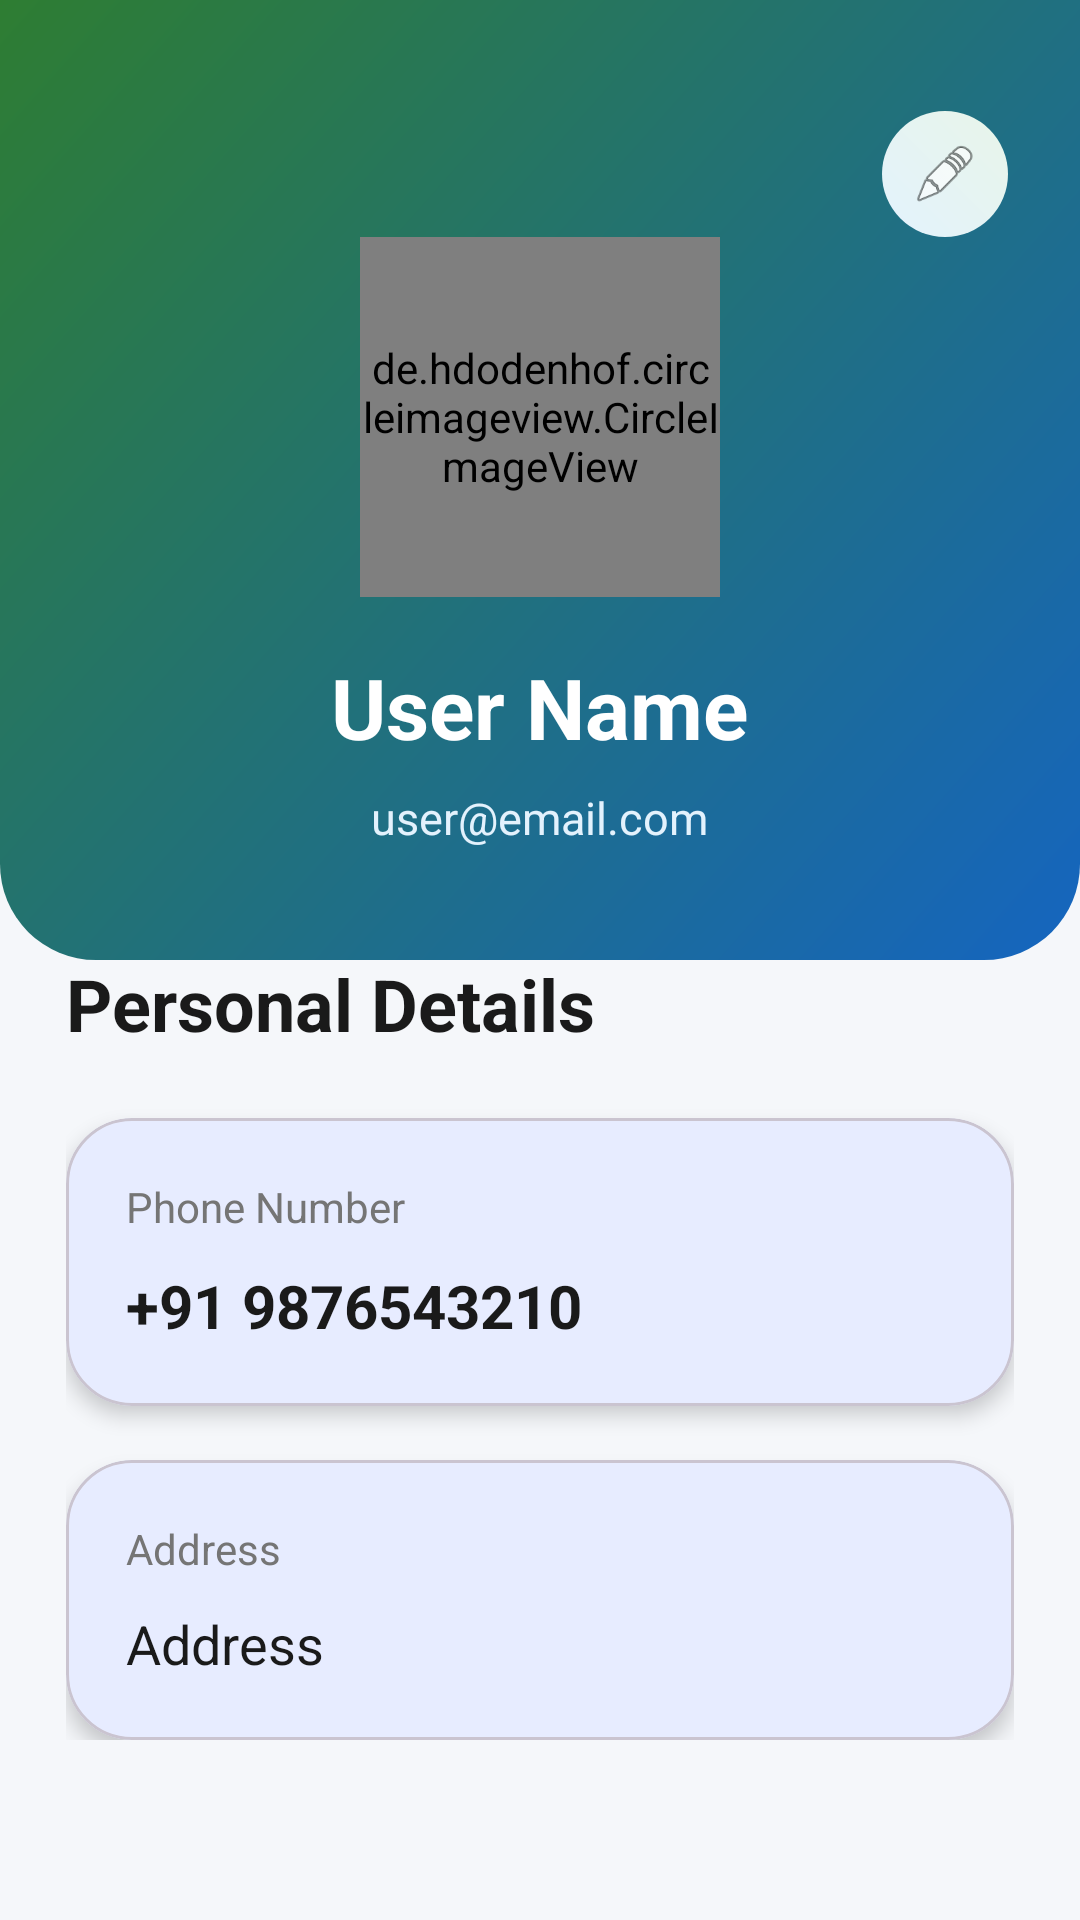

Named icons in this screenshot (1080 x 1920) and their centers, [x,y]:
edit: [945,174]
